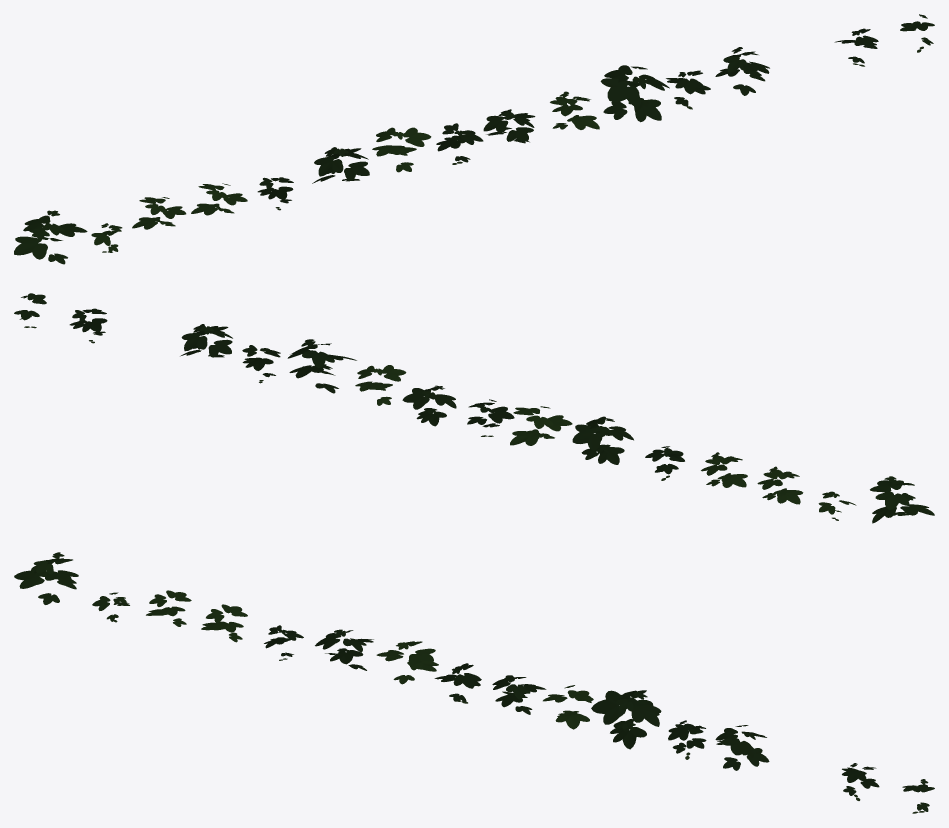
File: ROW_15_SEG0_foliage.dae
3 renders of one model, top to bottom at view 1: azimuth 30°, elevation 25°; view 2: azimuth 150°, elevation 25°; view 3: azimuth 330°, elevation 25°, orthographic. The views are drawn at different scales.
Visible parts, largest first — view 1: ROW_15_SEG0_foliage; view 2: ROW_15_SEG0_foliage; view 3: ROW_15_SEG0_foliage.
Part boxes in pixels (x1,y1,x2,y2): ROW_15_SEG0_foliage: (14, 14, 934, 264); ROW_15_SEG0_foliage: (14, 293, 934, 523); ROW_15_SEG0_foliage: (14, 552, 934, 813).
Size of the model in its own units: 4.86 by 0.3439 by 0.2752.
